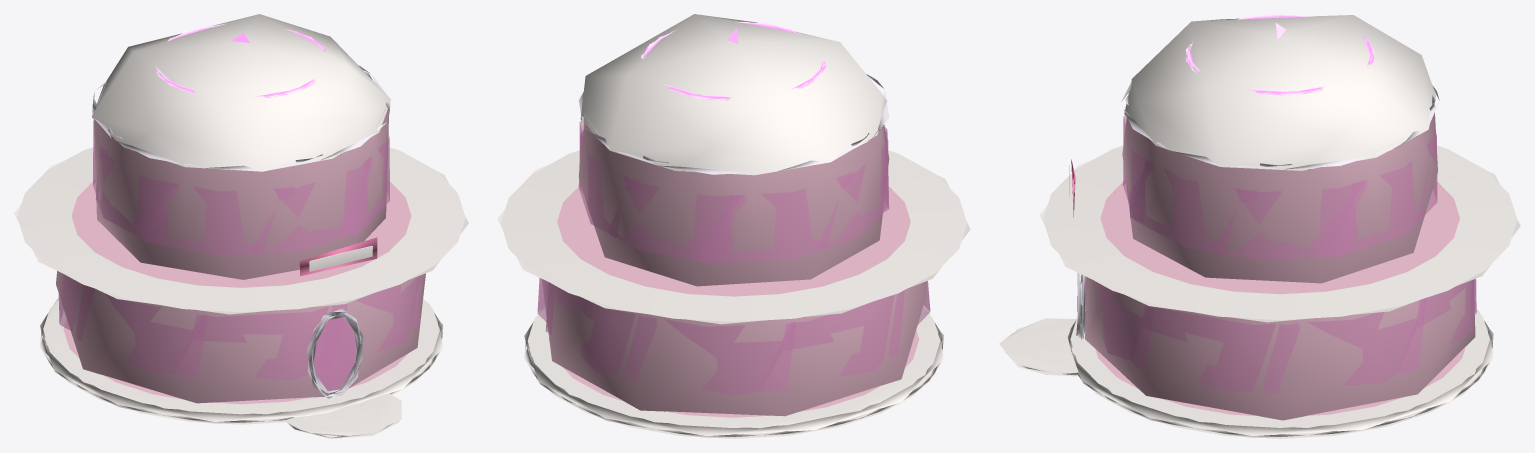
The model's file is lod_building_bubble_wide.glb.
3 views of the same model, side by side, from view 1: azimuth 30°, elevation 25°; view 2: azimuth 150°, elevation 25°; view 3: azimuth 270°, elevation 25° (orthographic). The views are drawn at different scales.
Parts seen in each view (by area): view 1: building_bubble_wide; view 2: building_bubble_wide; view 3: building_bubble_wide.
Part boxes in pixels (bbox=[...]): building_bubble_wide: bbox=[14, 14, 468, 438]; building_bubble_wide: bbox=[497, 14, 970, 438]; building_bubble_wide: bbox=[999, 14, 1520, 438].
Size of the model in its own units: 11.24 by 8.42 by 12.19.
